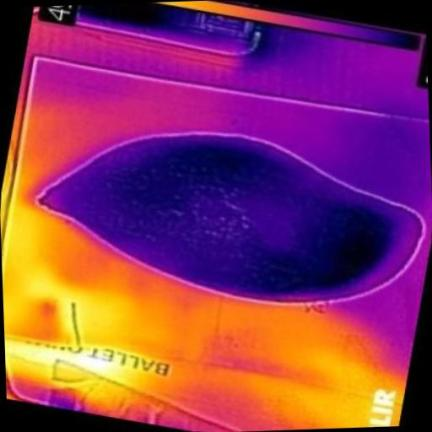mango: (38, 132, 421, 301)
